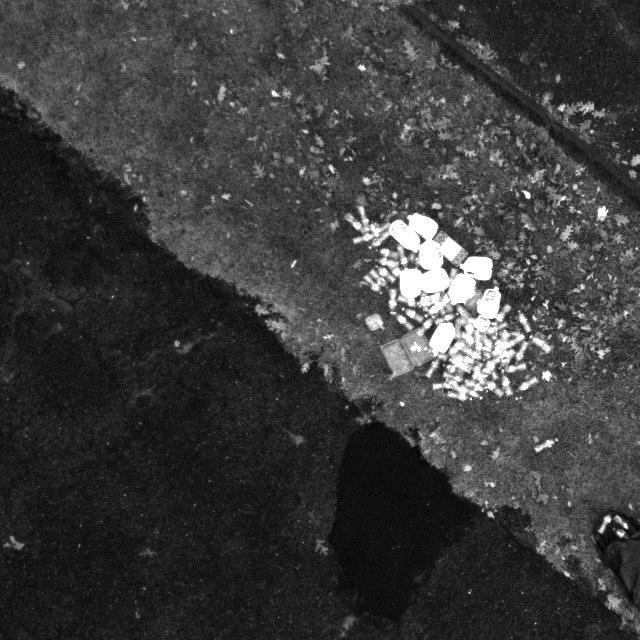bottle: (343, 211, 369, 237), (374, 262, 399, 285), (365, 230, 392, 251), (368, 268, 390, 293), (394, 242, 412, 272), (515, 307, 534, 335), (362, 274, 385, 297), (529, 333, 553, 355), (355, 202, 372, 233), (367, 219, 393, 239), (400, 305, 426, 325), (492, 301, 511, 328), (458, 382, 484, 401), (415, 314, 436, 337), (463, 378, 491, 395), (351, 230, 380, 246), (445, 388, 474, 404), (455, 303, 476, 325), (483, 377, 504, 399), (434, 310, 460, 327), (516, 375, 539, 394), (533, 437, 558, 454), (424, 355, 441, 380), (448, 356, 473, 373), (386, 258, 406, 279), (374, 246, 400, 262), (415, 292, 441, 308), (423, 346, 449, 362), (483, 320, 509, 336), (398, 293, 422, 310), (499, 360, 528, 374), (394, 313, 415, 332), (386, 286, 399, 316), (514, 339, 529, 365), (446, 265, 460, 290), (448, 339, 465, 359), (500, 375, 514, 399), (472, 328, 484, 354), (430, 381, 459, 390)
can: (386, 218, 423, 255), (446, 272, 479, 306), (458, 254, 495, 282), (475, 285, 503, 321), (406, 211, 439, 241), (398, 268, 423, 307), (427, 323, 456, 356), (417, 237, 445, 271), (421, 267, 451, 297)
container: (379, 328, 436, 379), (430, 228, 469, 267), (497, 332, 524, 353), (481, 353, 506, 374), (364, 312, 384, 334)
